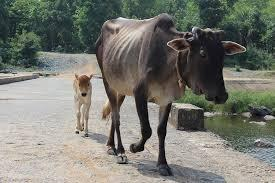cow: (96, 18, 247, 175), (72, 75, 93, 134)
